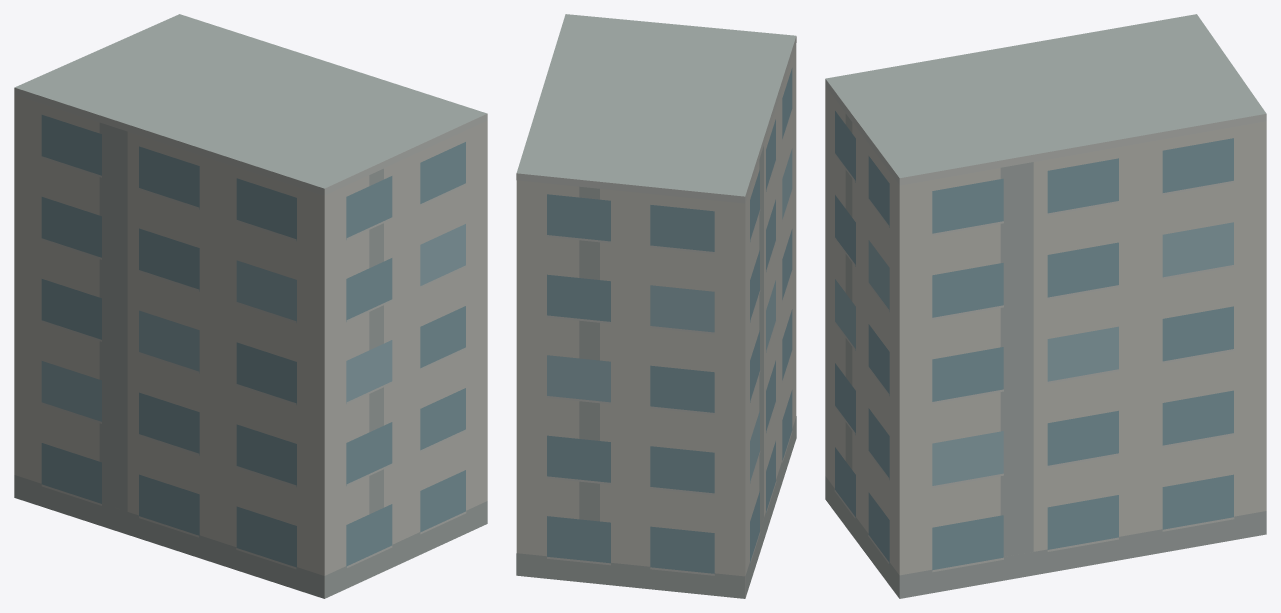
The model's file is survey-upis-32466923.glb.
3 renders of one model, left to right at view 1: azimuth 30°, elevation 25°; view 2: azimuth 150°, elevation 25°; view 3: azimuth 270°, elevation 25°, orthographic. The views are drawn at different scales.
Parts seen in each view (by area): view 1: survey-upis-32466923.tmp; view 2: survey-upis-32466923.tmp; view 3: survey-upis-32466923.tmp.
Part boxes in pixels (bbox=[...]): survey-upis-32466923.tmp: bbox=[14, 14, 487, 598]; survey-upis-32466923.tmp: bbox=[516, 14, 796, 598]; survey-upis-32466923.tmp: bbox=[825, 14, 1266, 598].
Bounding box in the file's own units: 11.73 × 14 × 13.32.
